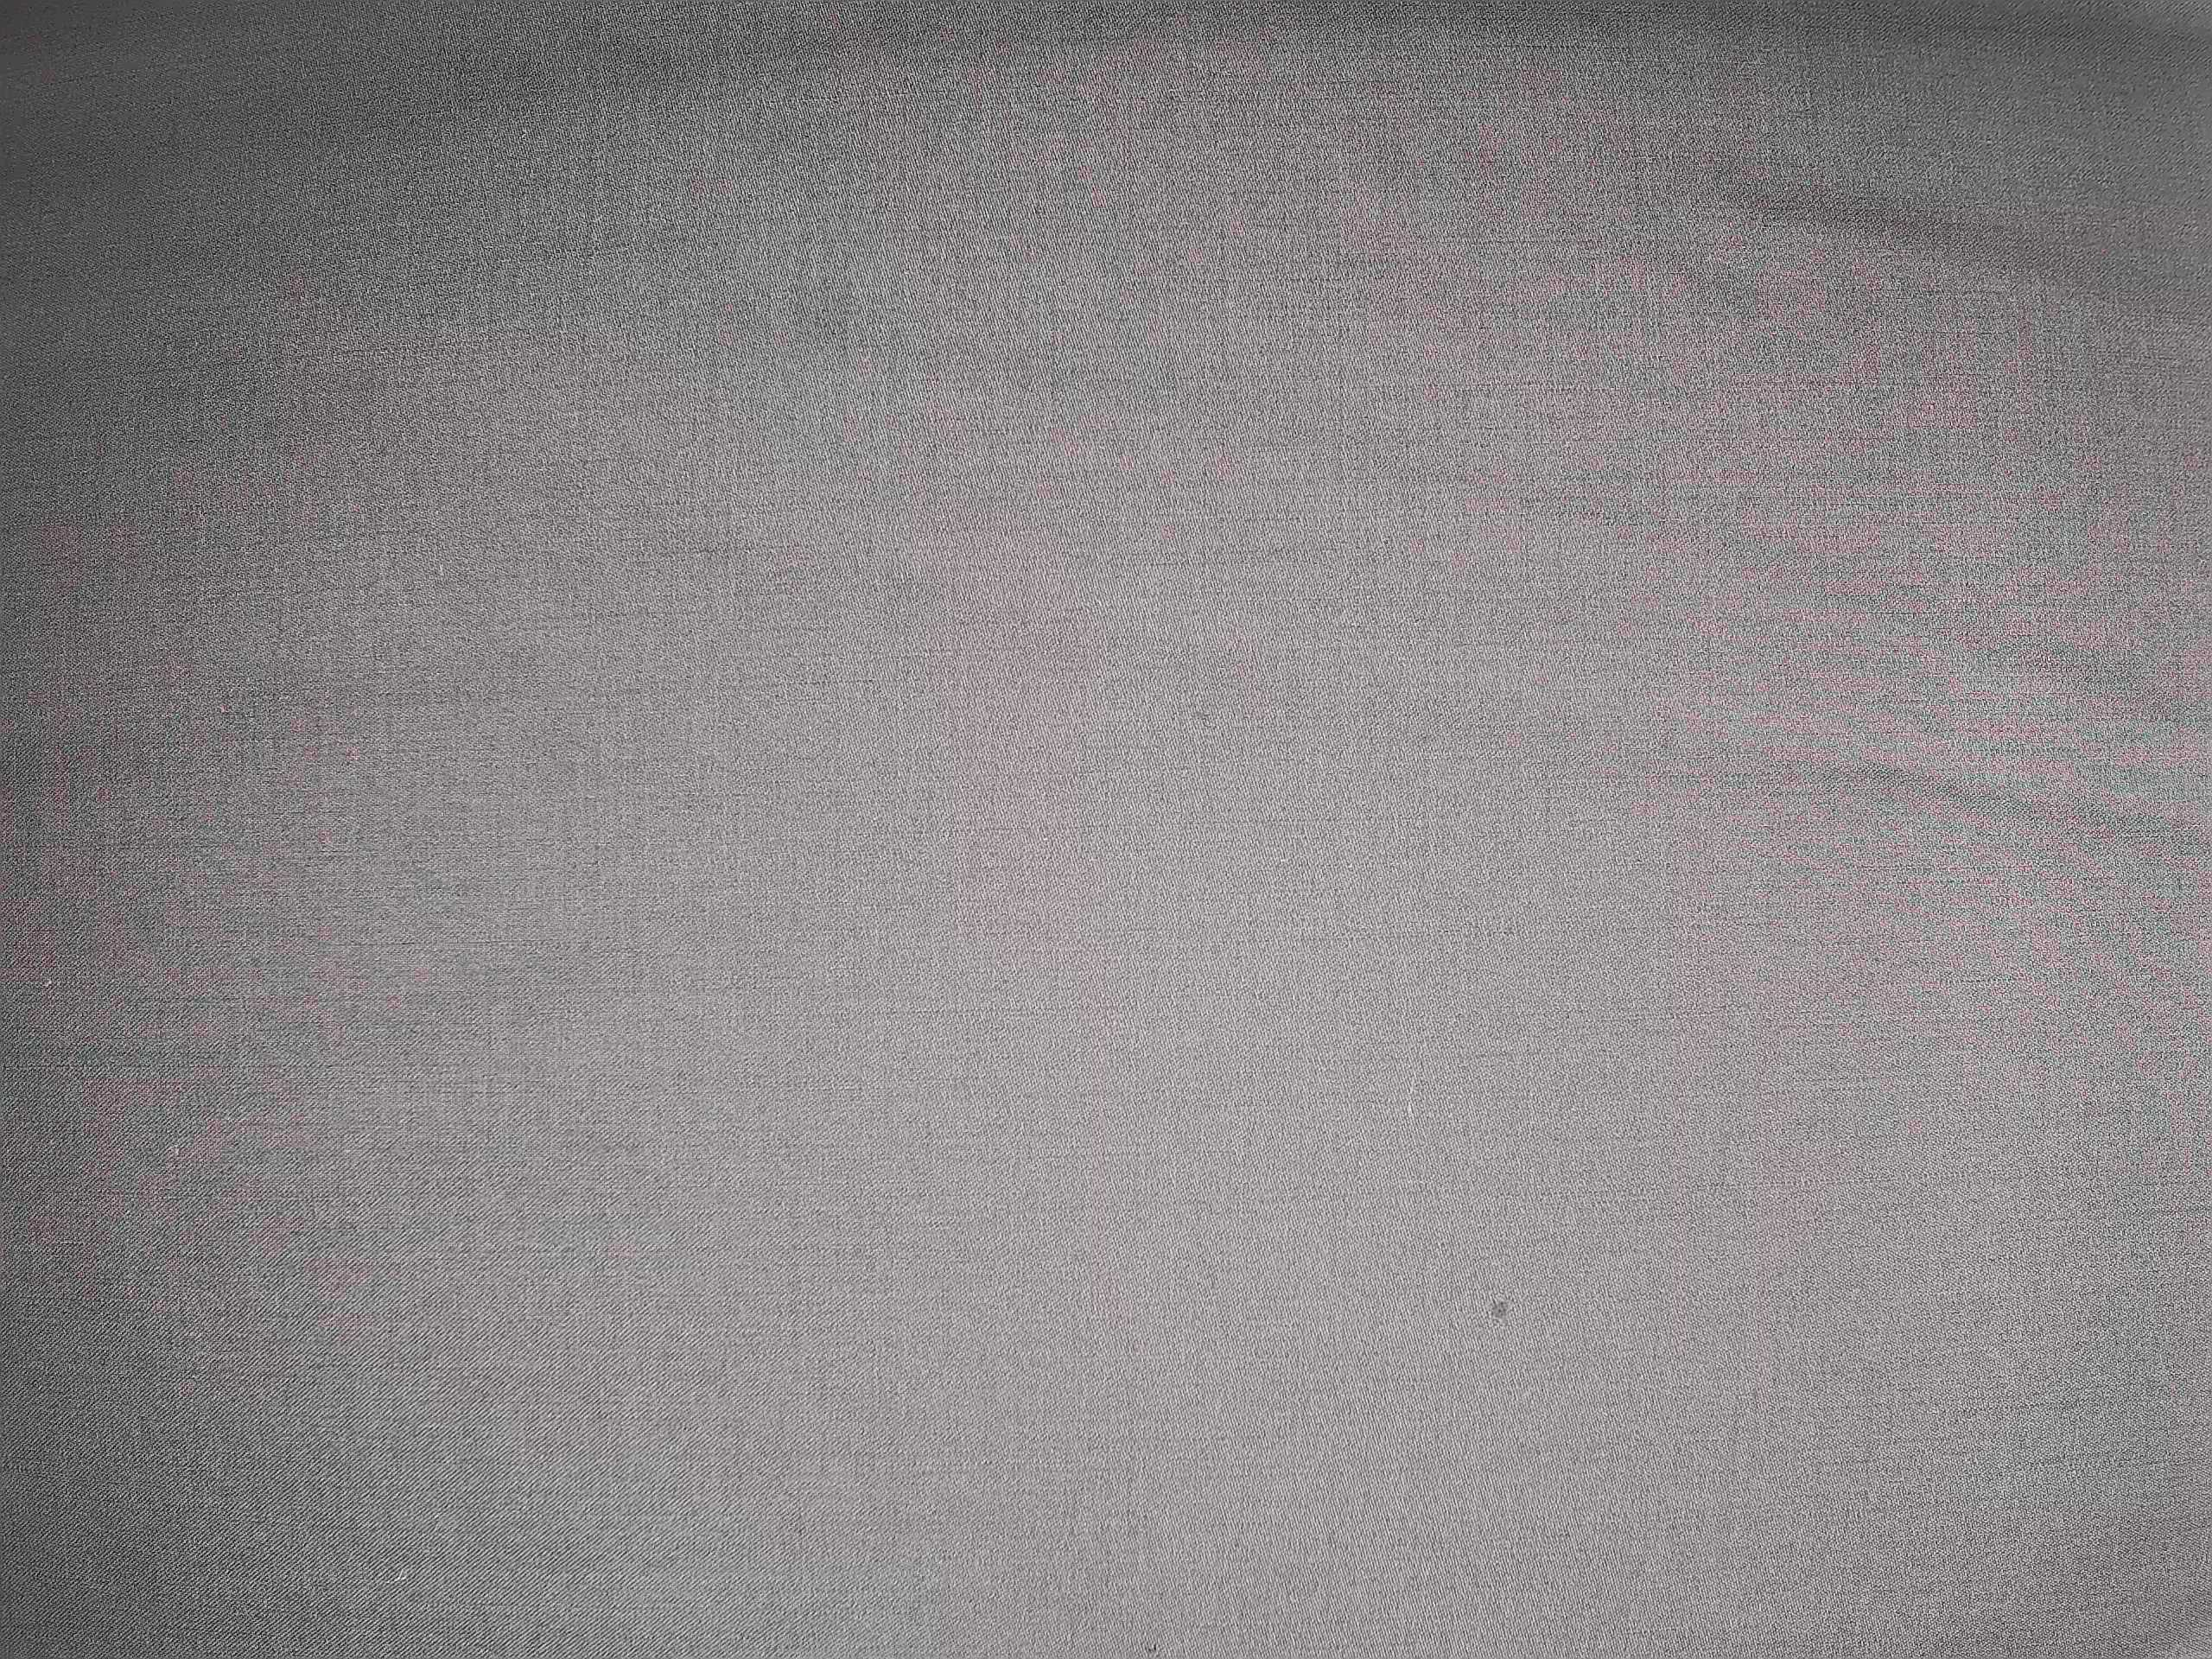rubbing-hole: (1482, 1293, 1515, 1328)
